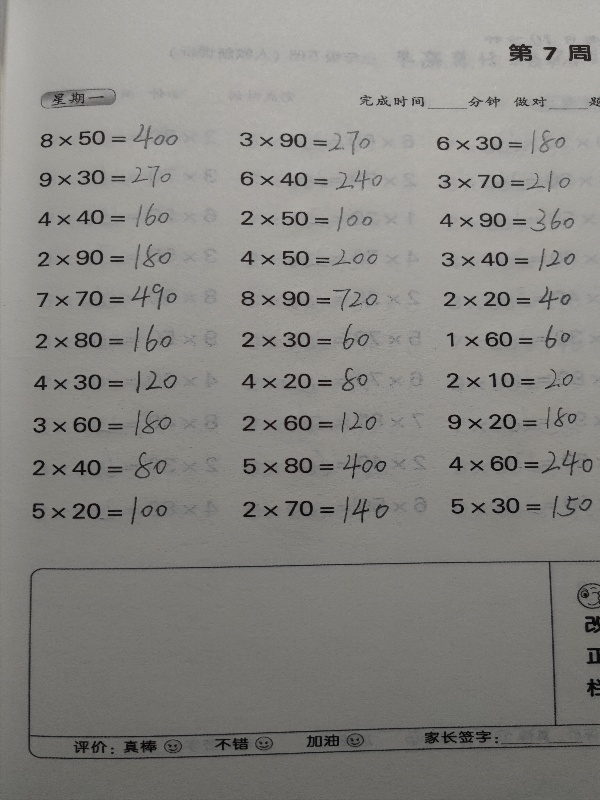equation: (29, 491, 183, 529), (31, 321, 182, 357), (239, 491, 394, 526), (443, 401, 587, 437), (32, 364, 182, 397), (34, 281, 183, 314), (237, 362, 374, 397), (31, 450, 178, 482), (34, 241, 175, 274), (37, 121, 182, 153), (448, 490, 596, 521), (237, 127, 379, 159), (30, 411, 181, 441), (34, 202, 176, 233), (237, 285, 383, 315), (437, 205, 578, 236), (433, 126, 569, 158), (240, 450, 395, 478), (237, 204, 376, 235), (443, 323, 584, 353), (438, 245, 579, 275), (36, 162, 175, 192), (441, 283, 575, 314), (237, 167, 387, 194), (446, 450, 597, 476), (435, 168, 575, 196), (447, 364, 581, 393), (236, 409, 384, 435), (237, 324, 378, 351), (236, 245, 381, 271)
